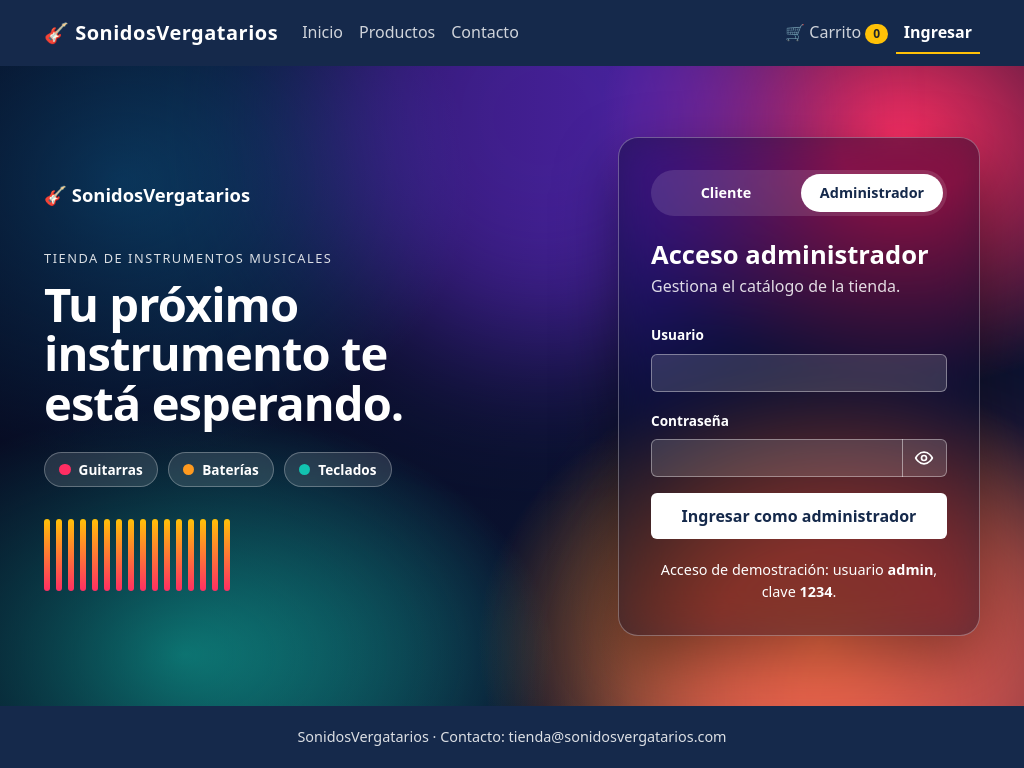
Test: navegación y acceso › exige usuario y contraseña al administrador antes de comprobar la clave
Click the button "Ingresar como administrador" at [799, 516], box [651, 493, 947, 539]
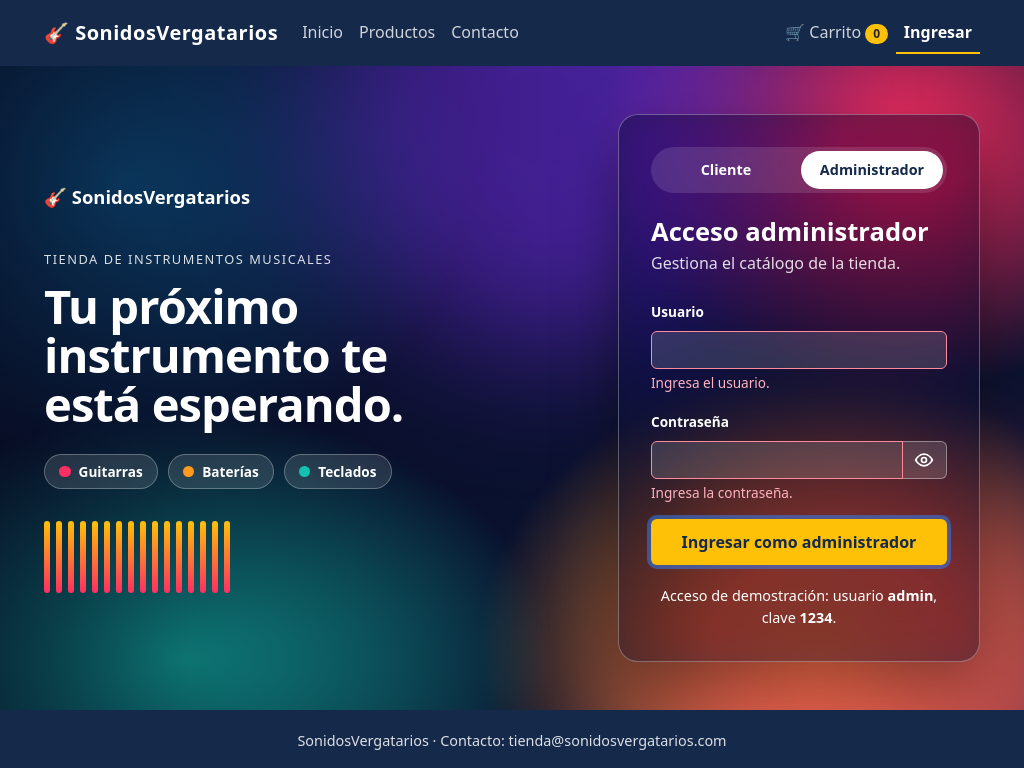
Expected: the text "Ingresa el usuario." is shown, [651, 373, 770, 392]
Expected: the text "Ingresa la contraseña." is shown, [651, 483, 793, 502]
